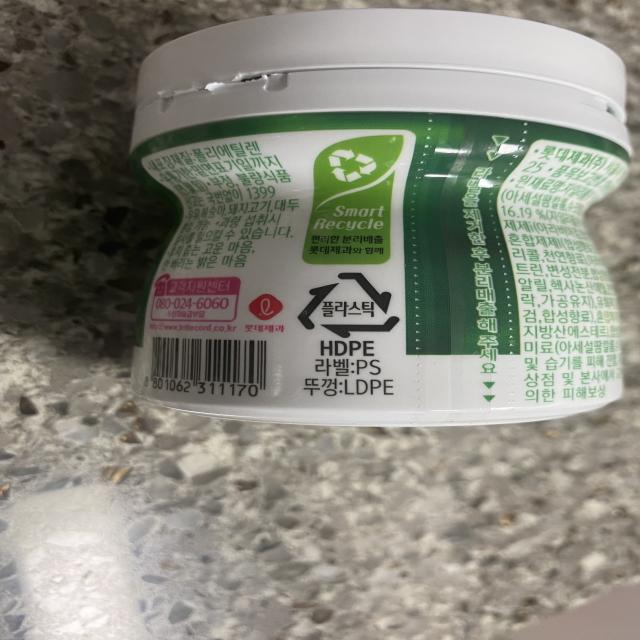Plastic: (294, 268, 403, 338)
